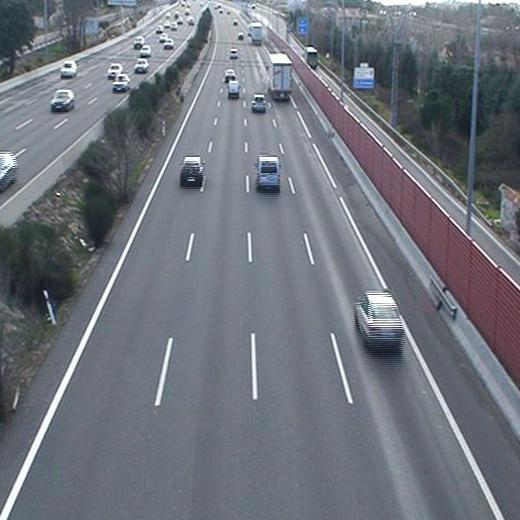car: (354, 290, 405, 352), (179, 156, 205, 190), (250, 95, 269, 113), (223, 69, 237, 82)
truck: (266, 53, 292, 101)
van: (256, 156, 281, 195), (227, 79, 240, 100)
